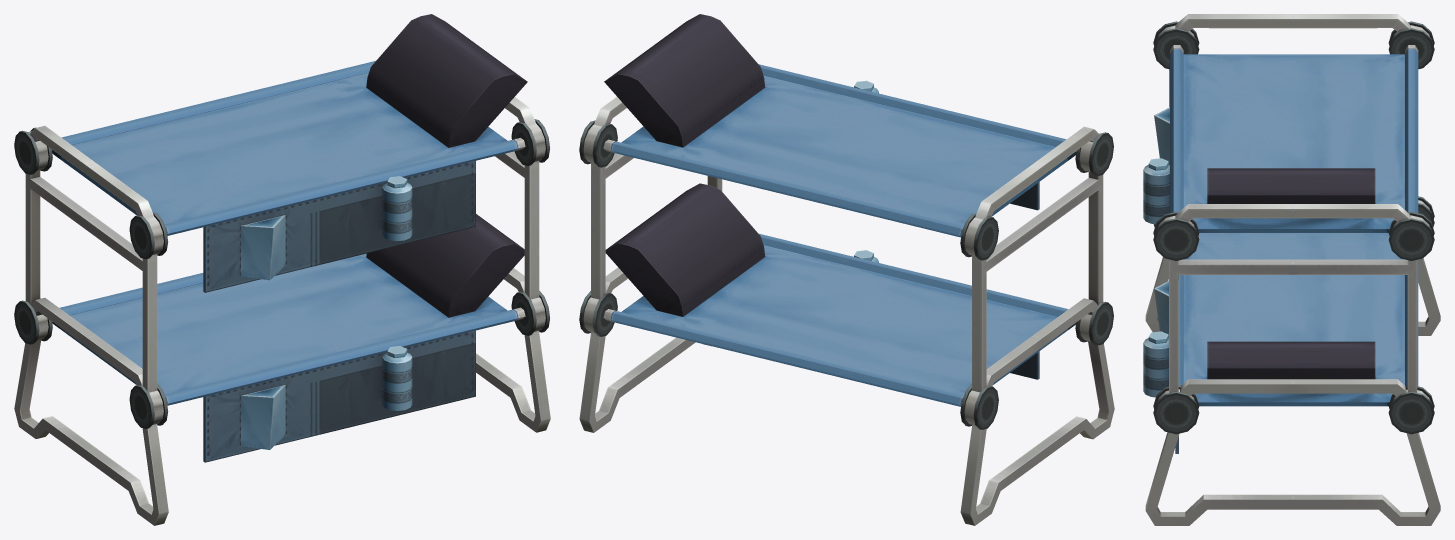
File: my_military_01_fieldbed.glb
The picture shows the model from 3 angles, left to right: view 1: azimuth 30°, elevation 25°; view 2: azimuth 150°, elevation 25°; view 3: azimuth 270°, elevation 25°; orthographic projection. The views are drawn at different scales.
Visible parts, largest first — view 1: my_military_01_fieldbed; view 2: my_military_01_fieldbed; view 3: my_military_01_fieldbed.
Part boxes in pixels (x1=…): my_military_01_fieldbed: x1=14, y1=14, x2=550, y2=525; my_military_01_fieldbed: x1=579, y1=14, x2=1114, y2=525; my_military_01_fieldbed: x1=1143, y1=14, x2=1440, y2=525.
Bounding box in the file's own units: 0.0128 × 0.0103 × 0.00804.
Materials: 1 (1 with a texture image).
